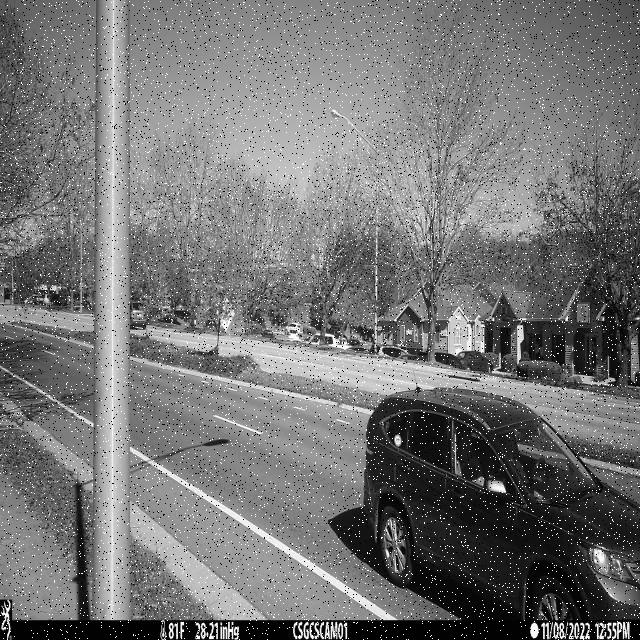SUV: (363, 386, 640, 622)
